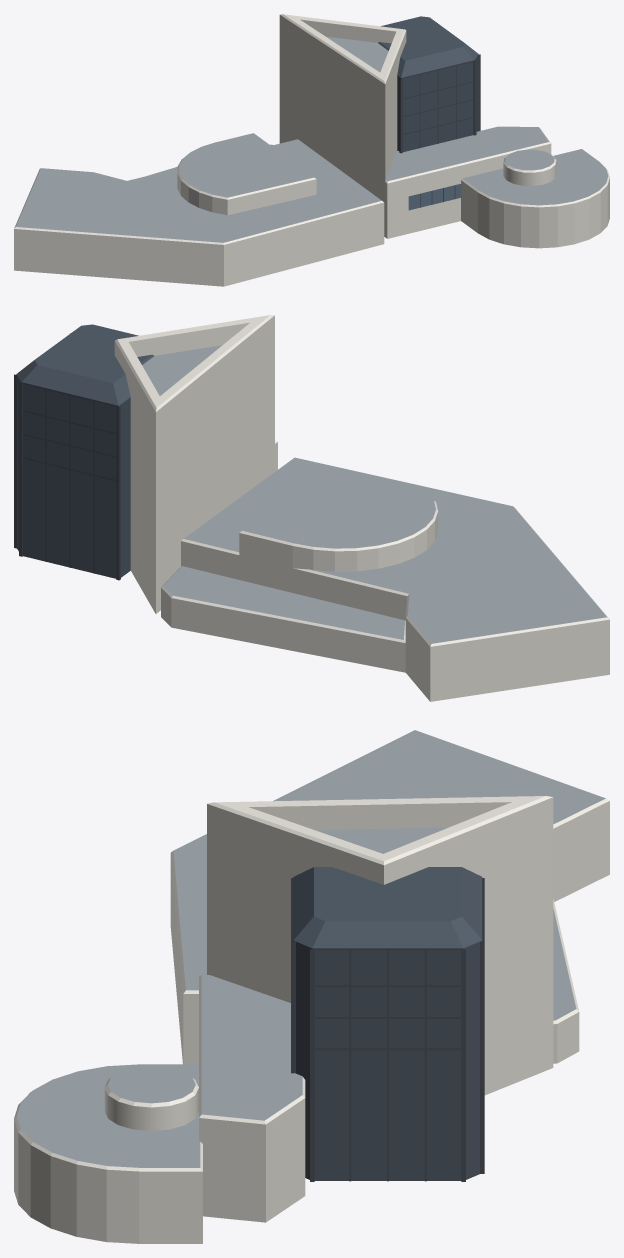
The model's file is bos-jfk-library.glb.
3 views of the same model, one above another, from view 1: azimuth 30°, elevation 25°; view 2: azimuth 150°, elevation 25°; view 3: azimuth 270°, elevation 25° (orthographic). The views are drawn at different scales.
Visible parts, largest first — view 1: John F. Kennedy Presidential Library and Museum; view 2: John F. Kennedy Presidential Library and Museum; view 3: John F. Kennedy Presidential Library and Museum.
Part boxes in pixels (left/top/right/bottom): John F. Kennedy Presidential Library and Museum: left=14, top=14, right=609, bottom=286; John F. Kennedy Presidential Library and Museum: left=14, top=315, right=609, bottom=701; John F. Kennedy Presidential Library and Museum: left=14, top=730, right=609, bottom=1243.
Bounding box in the file's own units: 132 × 38.3 × 75.7.
